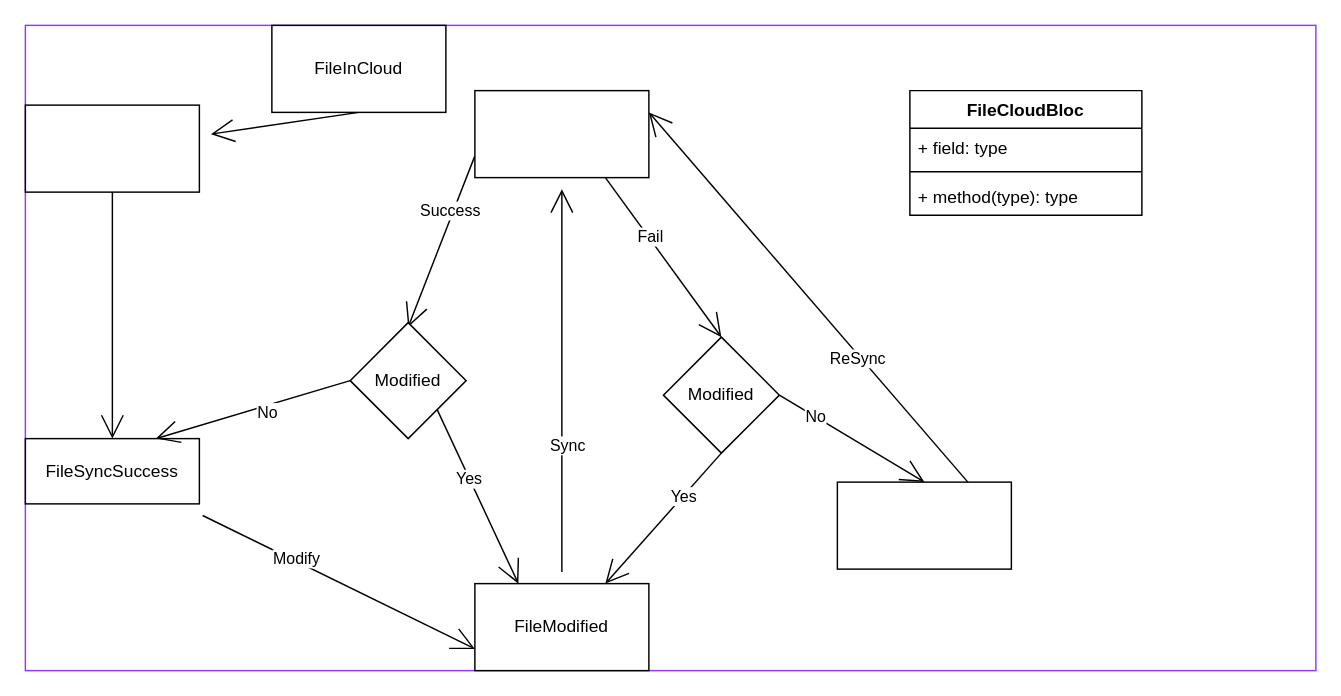
This 1341x696 diagram has some shape labels left out. The shapes that lost their labels are listed below. From the top down, each one's centre as x and y in pixels, then its label:
At point 111,148: "FileDownloading".
At point 561,133: "FileSyncing".
At point 923,525: "FileSyncFailure".
